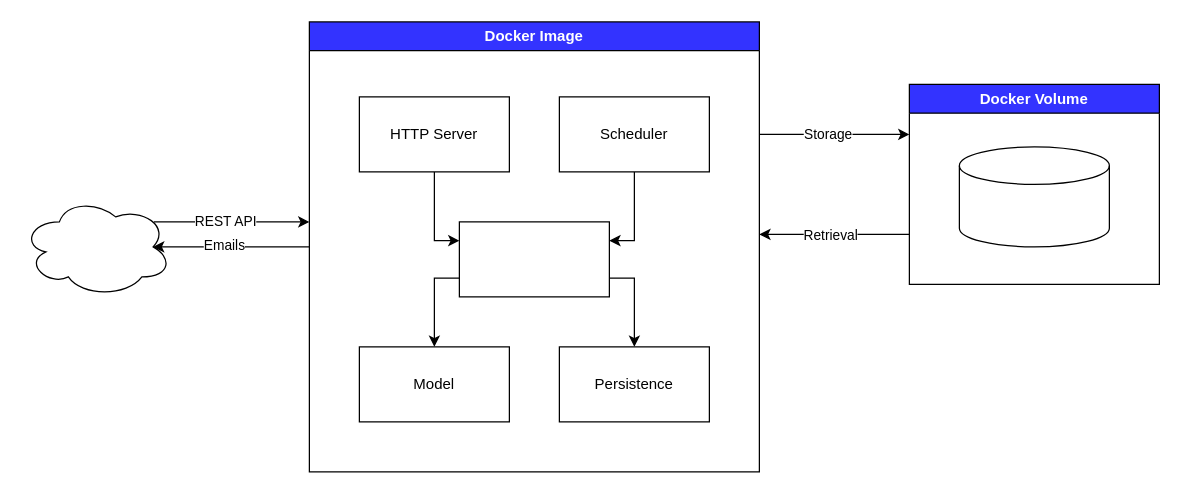
This 1181x494 diagram has some shape labels left out. The shapes that lost their labels are listed below. From the top down, each one's centre as x and y in pixels, then its label:
(1033,196): Database
(96,246): Internet
(533,259): Controller
